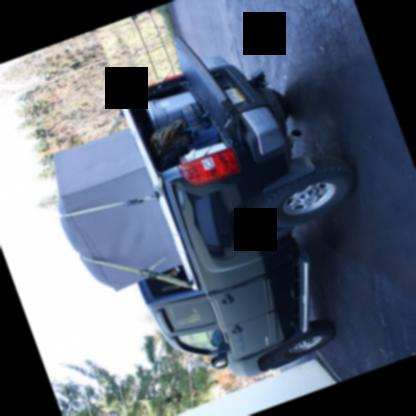backpack: (150, 116, 190, 147), (158, 131, 192, 166)
suitcase: (179, 100, 204, 126)
